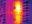Hotspot: (15, 2, 21, 21)
